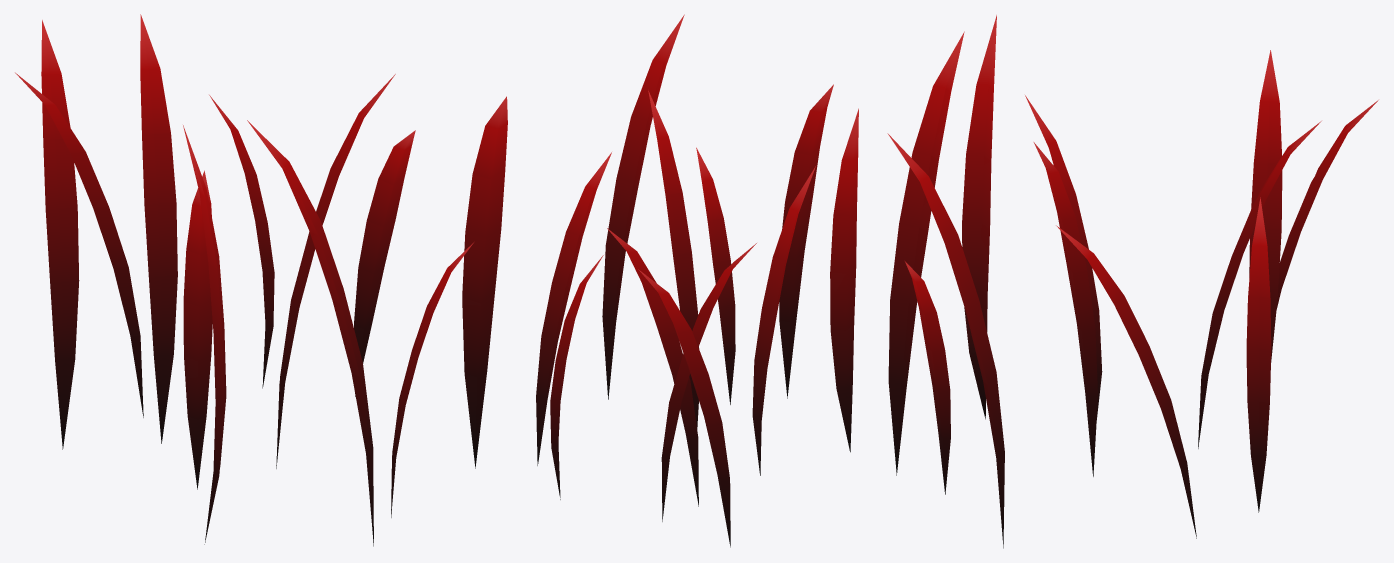
The model's file is mod_hierba2.fbx.
The picture shows the model from 3 angles, left to right: view 1: azimuth 30°, elevation 25°; view 2: azimuth 150°, elevation 25°; view 3: azimuth 270°, elevation 25°; orthographic projection. The views are drawn at different scales.
Visible parts, largest first — view 1: hierba.001; view 2: hierba.001; view 3: hierba.001.
Part boxes in pixels (left/top/right/bottom): hierba.001: left=15, top=14, right=507, bottom=546; hierba.001: left=536, top=14, right=858, bottom=547; hierba.001: left=887, top=15, right=1378, bottom=548.
Bounding box in the file's own units: 1.15 × 1.44 × 1.56.
